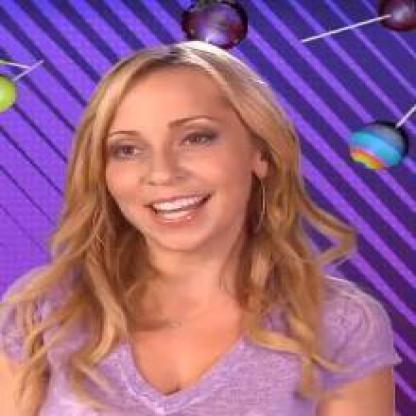long-hair: (36, 254, 346, 307)
